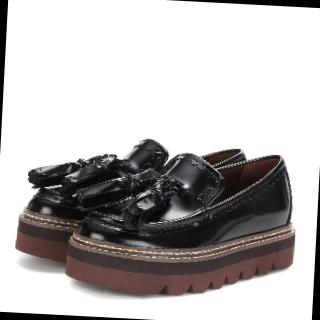loafers: (11, 132, 302, 304)
